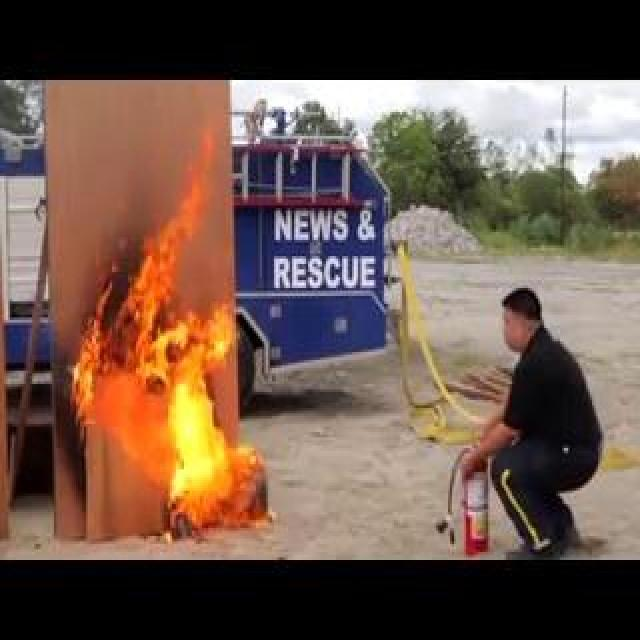Fire: (167, 334, 202, 414)
